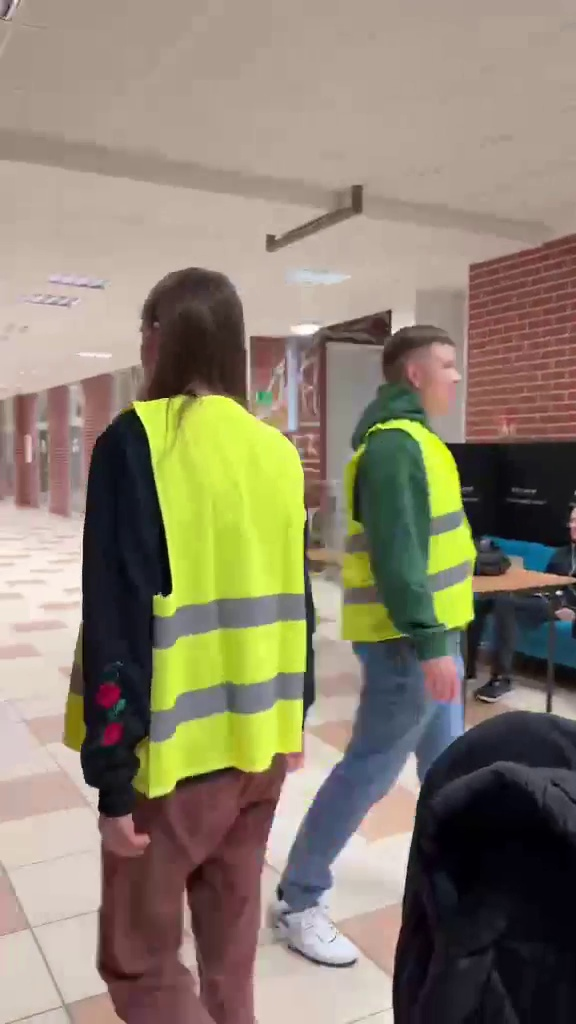vest: (67, 256, 297, 1010), (304, 317, 511, 971)
